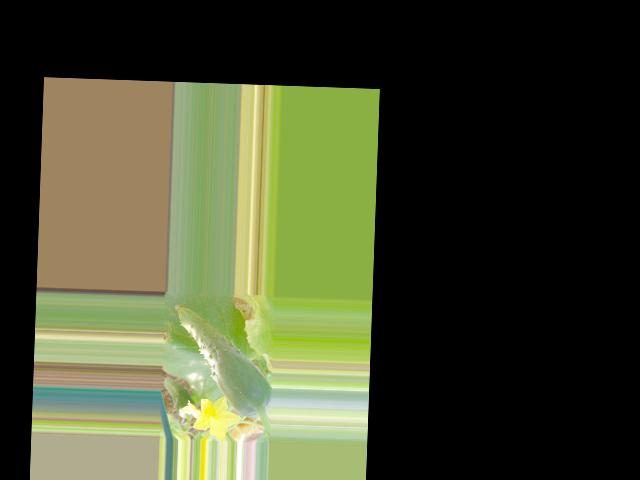cucumber: (170, 304, 274, 418)
